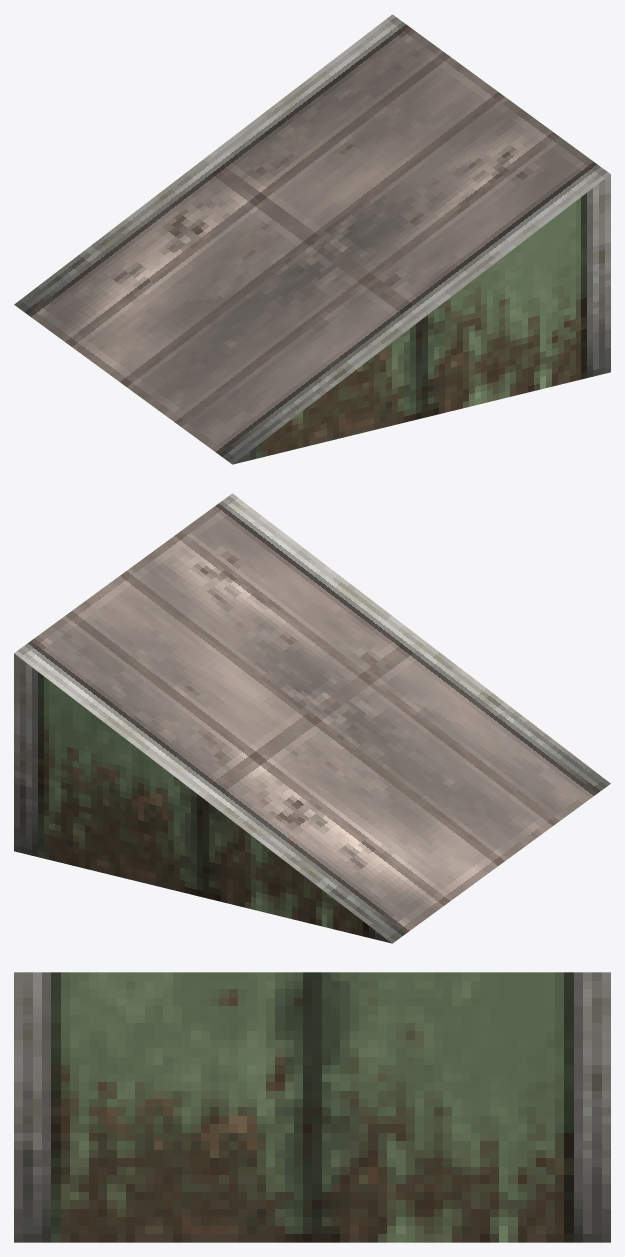
The picture shows the model from 3 angles, top to bottom: view 1: azimuth 30°, elevation 25°; view 2: azimuth 150°, elevation 25°; view 3: azimuth 270°, elevation 25°; orthographic projection. The views are drawn at different scales.
Parts seen in each view (by area): view 1: wall-b-roof-slant; view 2: wall-b-roof-slant; view 3: wall-b-roof-slant.
Part boxes in pixels (bbox=[...]): wall-b-roof-slant: bbox=[14, 14, 610, 464]; wall-b-roof-slant: bbox=[14, 493, 610, 943]; wall-b-roof-slant: bbox=[14, 972, 610, 1242].
Size of the model in its own units: 1 by 0.5 by 1.
Materials: 3 (3 with a texture image).
